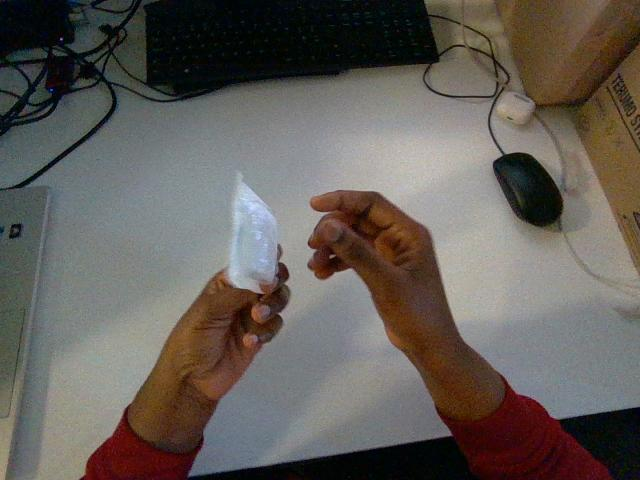gauze: (227, 173, 277, 292)
